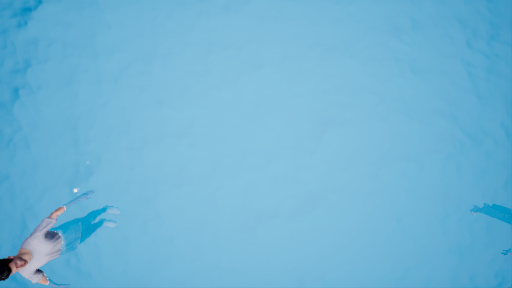person: (2, 190, 115, 279)
